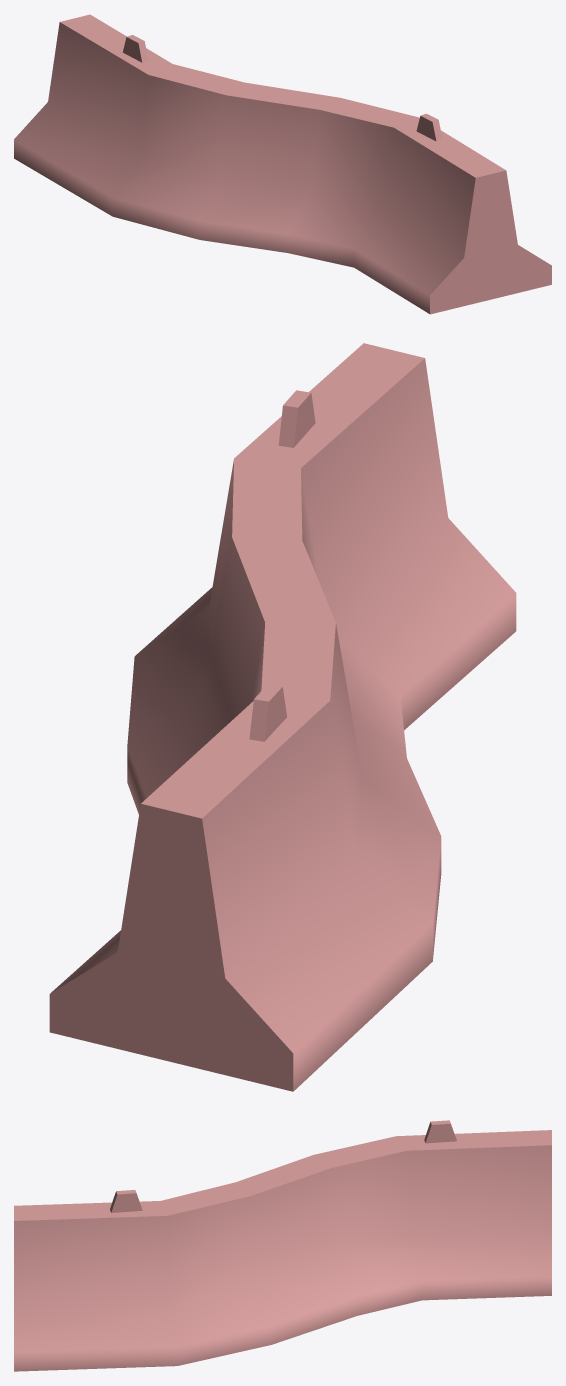
File: ConcreteBarrier_A_E_COL.fbx
The picture shows the model from 3 angles, top to bottom: view 1: azimuth 30°, elevation 25°; view 2: azimuth 150°, elevation 25°; view 3: azimuth 270°, elevation 25°; orthographic projection. The views are drawn at different scales.
Parts seen in each view (by area): view 1: ConcreteBarrier_A_E_COL; view 2: ConcreteBarrier_A_E_COL; view 3: ConcreteBarrier_A_E_COL.
Part boxes in pixels (box(x1,y1,x2,y2)): ConcreteBarrier_A_E_COL: box(14, 14, 551, 314); ConcreteBarrier_A_E_COL: box(49, 343, 516, 1091); ConcreteBarrier_A_E_COL: box(14, 1120, 551, 1371).
Bounding box in the file's own units: 180 × 89.8 × 300.
